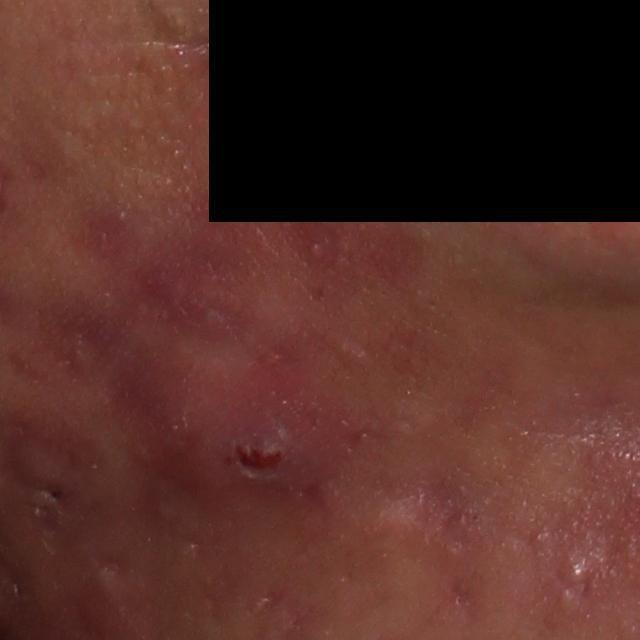nodule: (123, 354, 349, 509)
